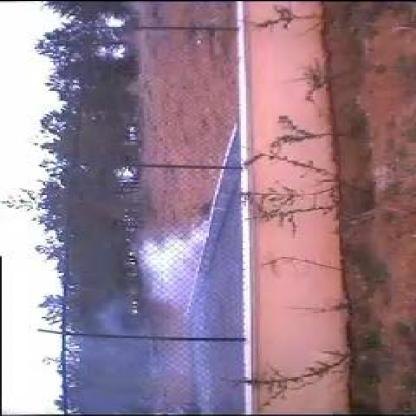-: (126, 219, 235, 332)
